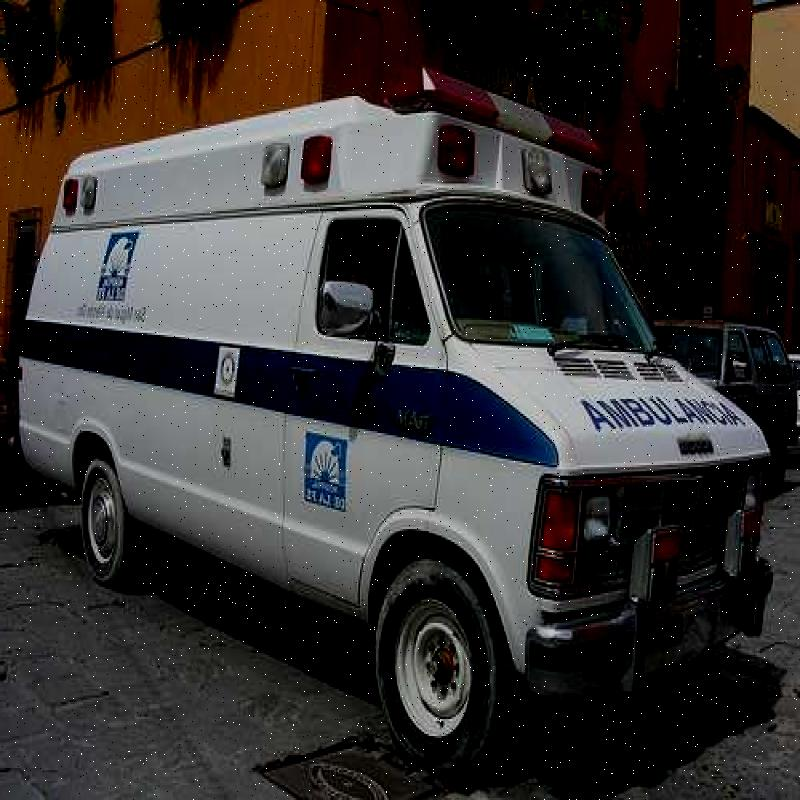AmbulanceSiren: (375, 62, 625, 156)
